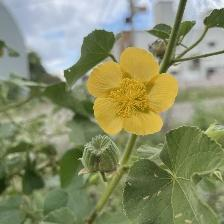indian mallow: (87, 47, 181, 138)
